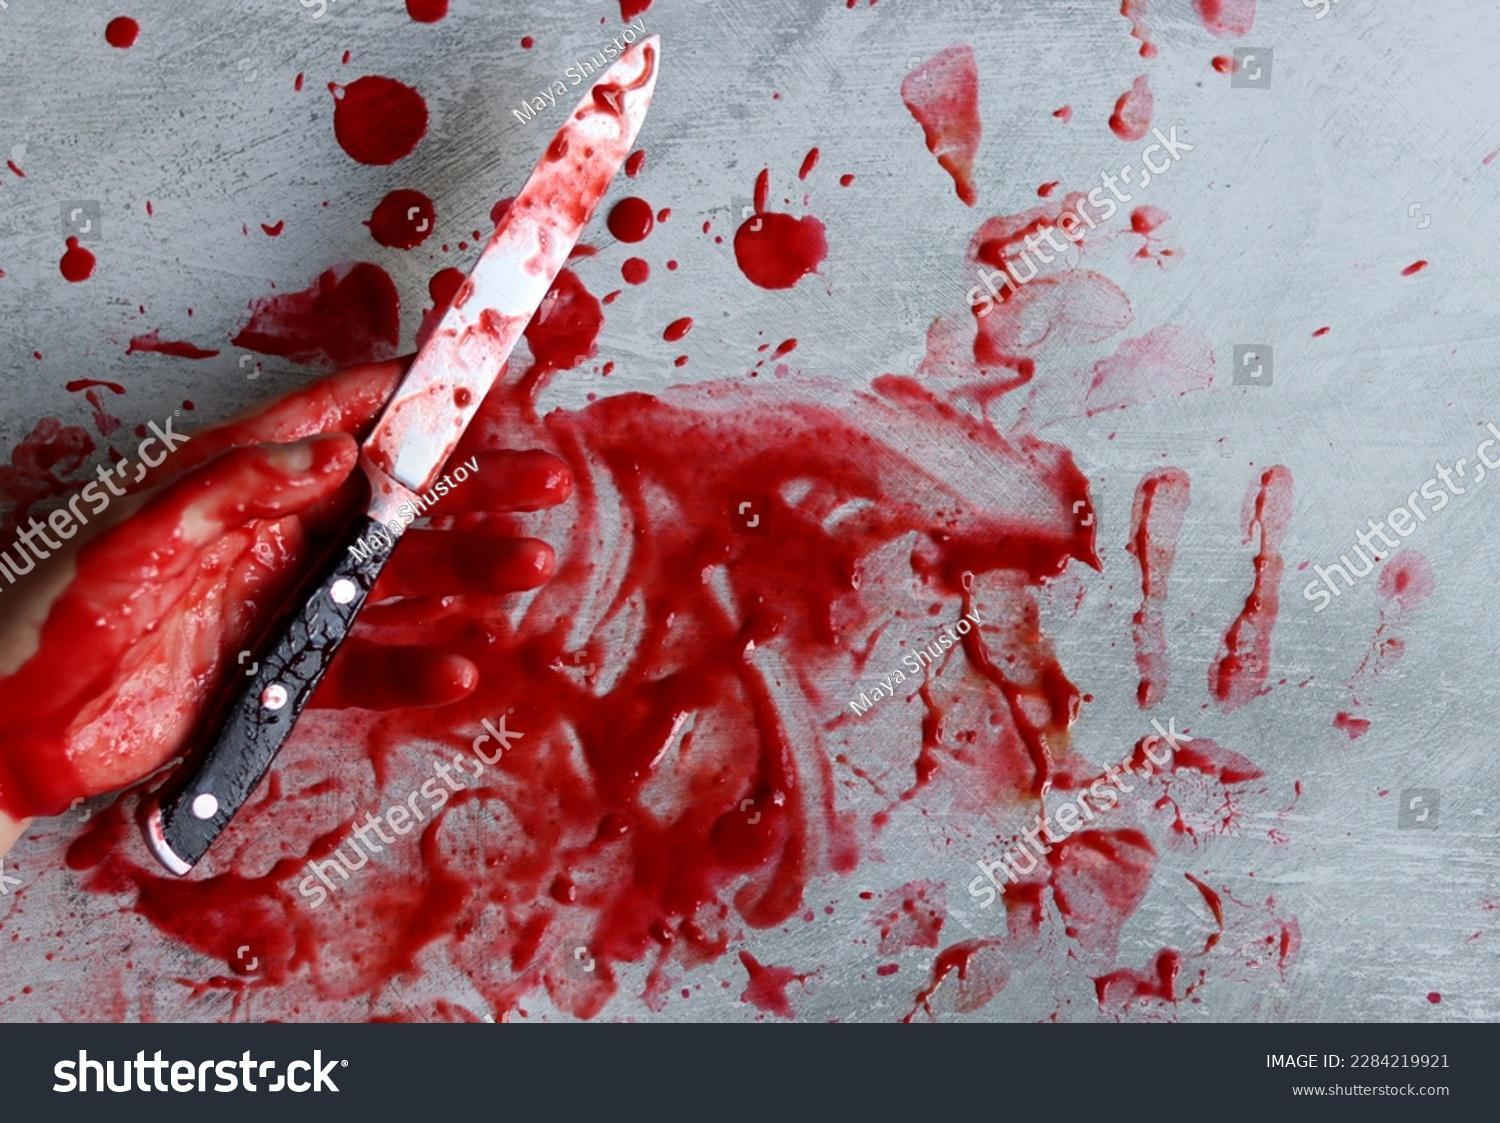Fire: (0, 308, 1303, 1022), (0, 360, 402, 819), (363, 33, 660, 525), (1210, 465, 1296, 710), (308, 598, 489, 710), (231, 261, 399, 367), (1129, 466, 1192, 709), (1347, 550, 1437, 707), (902, 42, 983, 204), (0, 418, 93, 546), (733, 166, 829, 288), (381, 530, 551, 597), (968, 192, 1084, 276), (525, 267, 619, 368), (334, 74, 427, 163), (435, 452, 571, 512), (364, 188, 435, 248), (66, 376, 124, 436), (1111, 71, 1156, 139), (123, 328, 218, 359), (1195, 0, 1259, 37), (1121, 0, 1162, 58), (607, 195, 656, 242), (57, 235, 94, 281), (1132, 203, 1171, 235), (103, 15, 137, 46), (1337, 710, 1371, 738), (404, 0, 447, 20), (621, 256, 650, 283), (619, 0, 653, 19), (800, 146, 820, 177), (664, 317, 690, 339), (1215, 53, 1233, 72), (6, 157, 22, 176)
